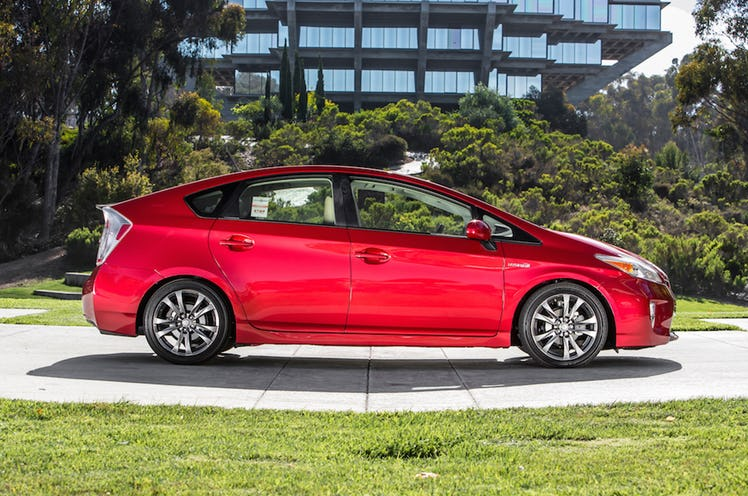Toyota Prius: (80, 160, 682, 372)
